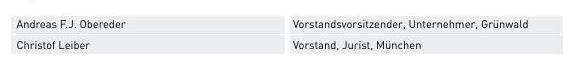table: (0, 0, 576, 69)
